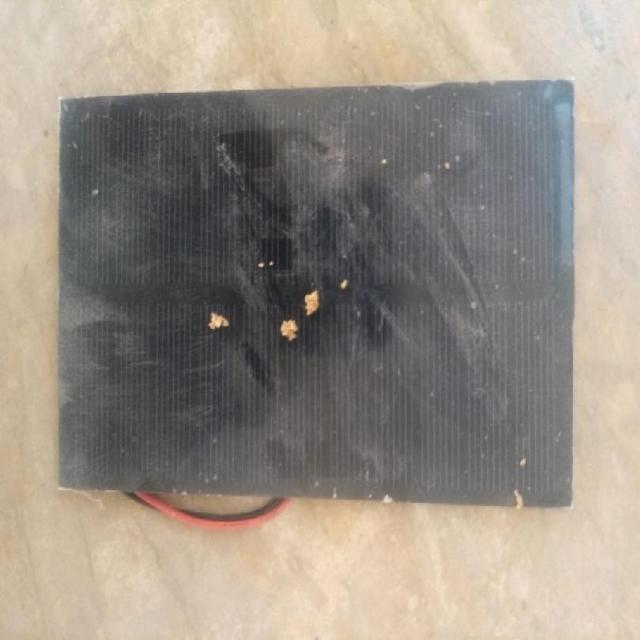faulty: (50, 95, 572, 497)
